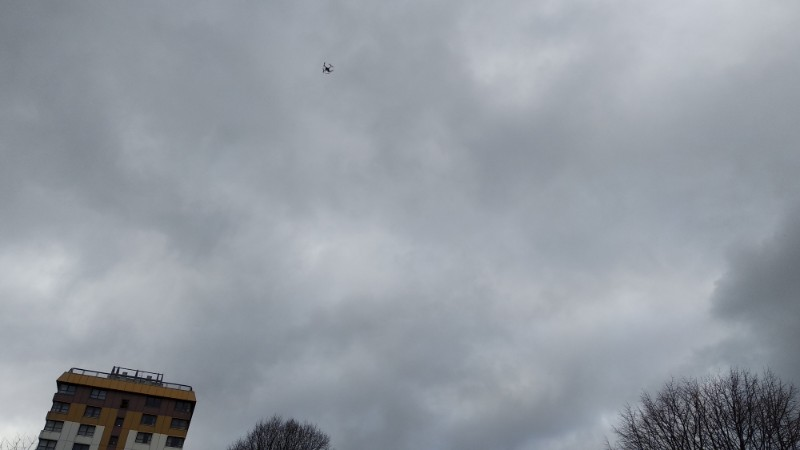drone: (321, 63, 333, 75)
